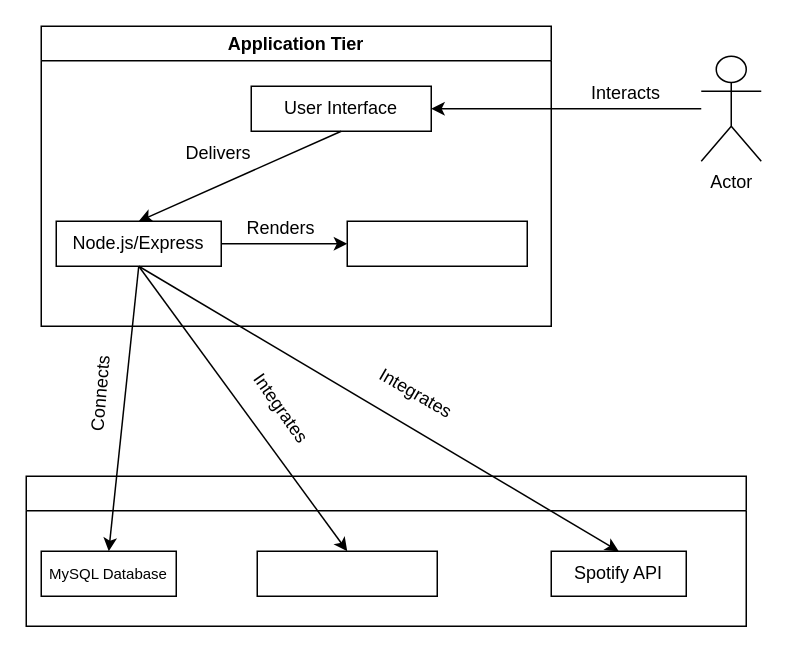
This 788x653 diagram has some shape labels left out. The box of each missing label's shape, as (x1, y1, x2, y2) in pixels:
AudID Music Recognise API: (256, 550, 437, 596)
Data tier: (25, 475, 746, 626)
EJS/PUG Frontend: (346, 220, 527, 266)
